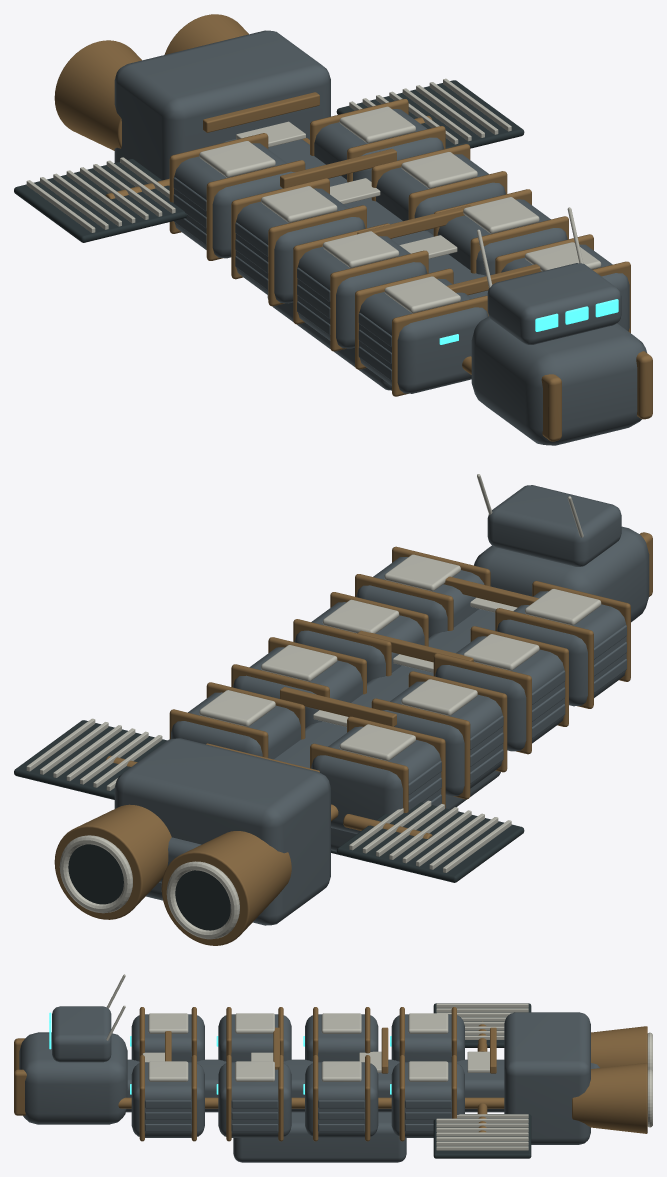
The model's file is ludion.glb.
The picture shows the model from 3 angles, top to bottom: view 1: azimuth 30°, elevation 25°; view 2: azimuth 150°, elevation 25°; view 3: azimuth 270°, elevation 25°; orthographic projection. The views are drawn at different scales.
Parts seen in each view (by area): view 1: Bloc de propulsion, Étrave habitée, Passerelle, Compartiment de stase protégé.001, Tuyère arrière, Radiateur déployé, Compartiment de stase protégé.005, Compartiment de stase protégé.003, Compartiment de stase protégé.007, Compartiment de stase protégé.006, Compartiment de stase protégé.004, Épine centrale (+36 smaller); view 2: Bloc de propulsion, Passerelle, Étrave habitée, Tuyère arrière, Compartiment de stase protégé.007, Tuyère arrière.001, Radiateur déployé, Épine centrale, Compartiment de stase protégé.003, Compartiment de stase protégé.001, Compartiment de stase protégé.005, Radiateur déployé.001 (+36 smaller); view 3: Bloc de propulsion, Étrave habitée, Drôme ventrale, Tuyère arrière.001, Épine centrale, Passerelle, Compartiment de stase protégé.004, Compartiment de stase protégé.006, Compartiment de stase protégé.002, Compartiment de stase protégé, Compartiment de stase protégé.007, Tuyère arrière (+51 smaller).
Boxes of the visible parts, x1=… form: Bloc de propulsion: x1=114, y1=30, x2=330, y2=180; Étrave habitée: x1=471, y1=316, x2=646, y2=445; Passerelle: x1=487, y1=263, x2=621, y2=344; Compartiment de stase protégé.001: x1=359, y1=278, x2=488, y2=393; Tuyère arrière: x1=54, y1=40, x2=141, y2=150; Radiateur déployé: x1=14, y1=159, x2=186, y2=242; Compartiment de stase protégé.005: x1=235, y1=188, x2=365, y2=303; Compartiment de stase protégé.003: x1=297, y1=236, x2=427, y2=348; Compartiment de stase protégé.007: x1=174, y1=143, x2=295, y2=258; Compartiment de stase protégé.006: x1=376, y1=154, x2=505, y2=234; Compartiment de stase protégé.004: x1=437, y1=199, x2=567, y2=275; Épine centrale: x1=223, y1=139, x2=488, y2=298; Bloc de propulsion: x1=114, y1=738, x2=330, y2=925; Passerelle: x1=487, y1=485, x2=621, y2=566; Étrave habitée: x1=474, y1=526, x2=649, y2=622; Tuyère arrière: x1=161, y1=831, x2=291, y2=945; Compartiment de stase protégé.007: x1=311, y1=726, x2=441, y2=833; Tuyère arrière.001: x1=54, y1=804, x2=171, y2=919; Radiateur déployé: x1=336, y1=802, x2=524, y2=882; Épine centrale: x1=159, y1=609, x2=495, y2=883; Compartiment de stase protégé.003: x1=435, y1=636, x2=564, y2=751; Compartiment de stase protégé.001: x1=496, y1=591, x2=626, y2=706; Compartiment de stase protégé.005: x1=382, y1=681, x2=503, y2=796; Radiateur déployé.001: x1=14, y1=720, x2=167, y2=799; Bloc de propulsion: x1=504, y1=1012, x2=590, y2=1144; Étrave habitée: x1=19, y1=1032, x2=127, y2=1124; Drôme ventrale: x1=233, y1=1112, x2=406, y2=1162; Tuyère arrière.001: x1=572, y1=1063, x2=647, y2=1133; Épine centrale: x1=126, y1=1059, x2=599, y2=1112; Passerelle: x1=52, y1=1006, x2=111, y2=1062; Compartiment de stase protégé.004: x1=218, y1=1062, x2=291, y2=1137; Compartiment de stase protégé.006: x1=305, y1=1062, x2=378, y2=1137; Compartiment de stase protégé.002: x1=131, y1=1062, x2=204, y2=1137; Compartiment de stase protégé: x1=391, y1=1062, x2=464, y2=1137; Compartiment de stase protégé.007: x1=391, y1=1014, x2=464, y2=1061; Tuyère arrière: x1=591, y1=1026, x2=647, y2=1067.
Bounding box in the file's own units: 6.63 × 3.23 × 11.8.
